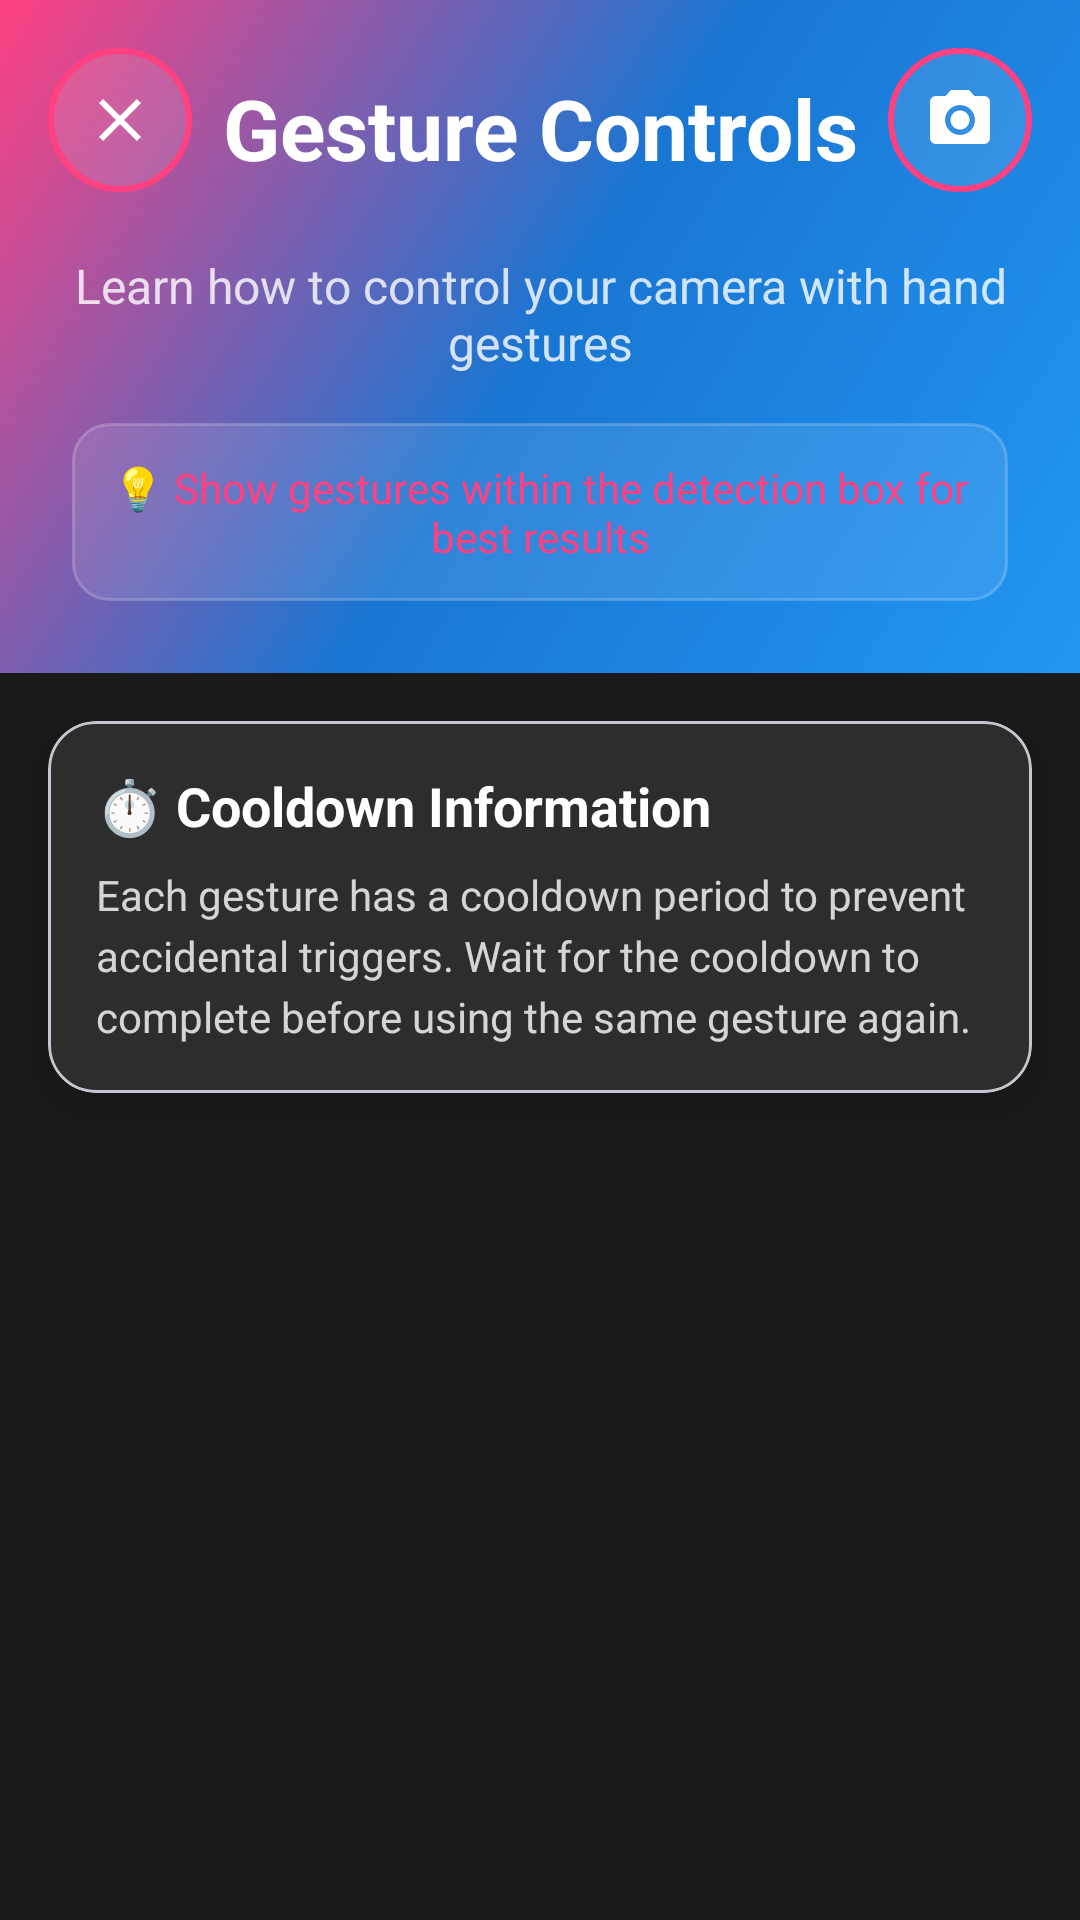

Point at icon controls on the screen. Image size 1080*1920, points as [x,y].
close: [120,120]
